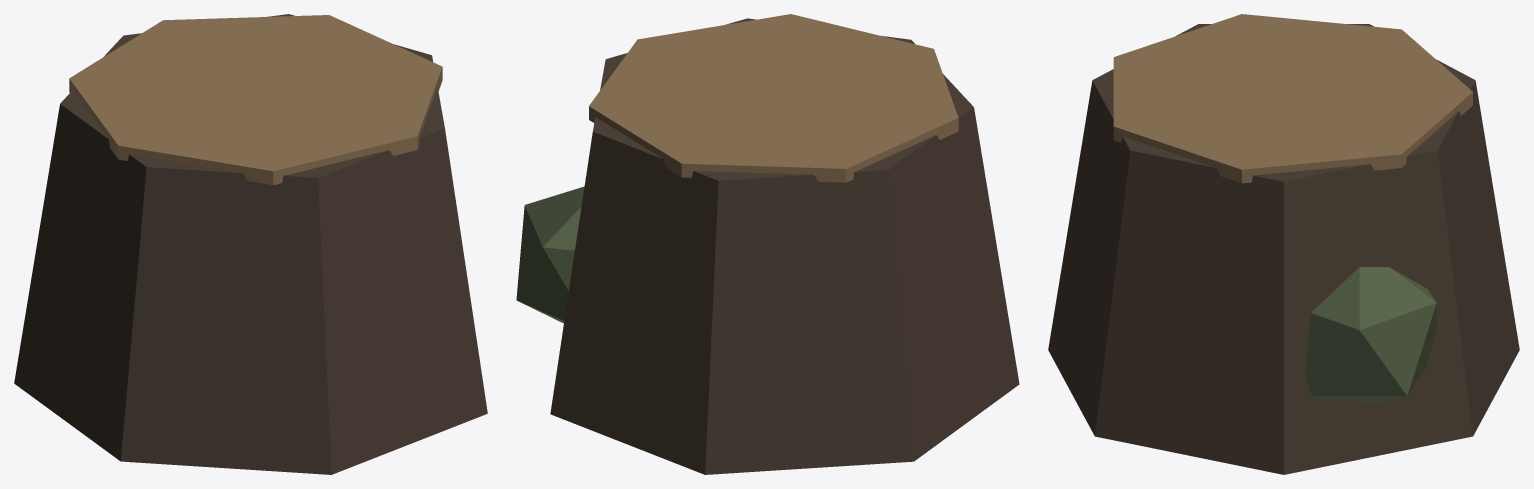
The model's file is stump.glb.
The picture shows the model from 3 angles, left to right: view 1: azimuth 30°, elevation 25°; view 2: azimuth 150°, elevation 25°; view 3: azimuth 270°, elevation 25°; orthographic projection.
Parts seen in each view (by area): view 1: old stump, stump rings; view 2: old stump, stump rings, stump moss; view 3: old stump, stump rings, stump moss.
Boxes of the visible parts, left/top/right/bottom form: old stump: left=14, top=14, right=487, bottom=474; stump rings: left=69, top=15, right=442, bottom=185; old stump: left=550, top=18, right=1019, bottom=474; stump rings: left=589, top=14, right=958, bottom=182; stump moss: left=516, top=186, right=584, bottom=323; old stump: left=1048, top=24, right=1519, bottom=474; stump rings: left=1113, top=14, right=1472, bottom=183; stump moss: left=1305, top=267, right=1436, bottom=402.
Bounding box in the file's own units: 0.3068 × 0.205 × 0.312.
